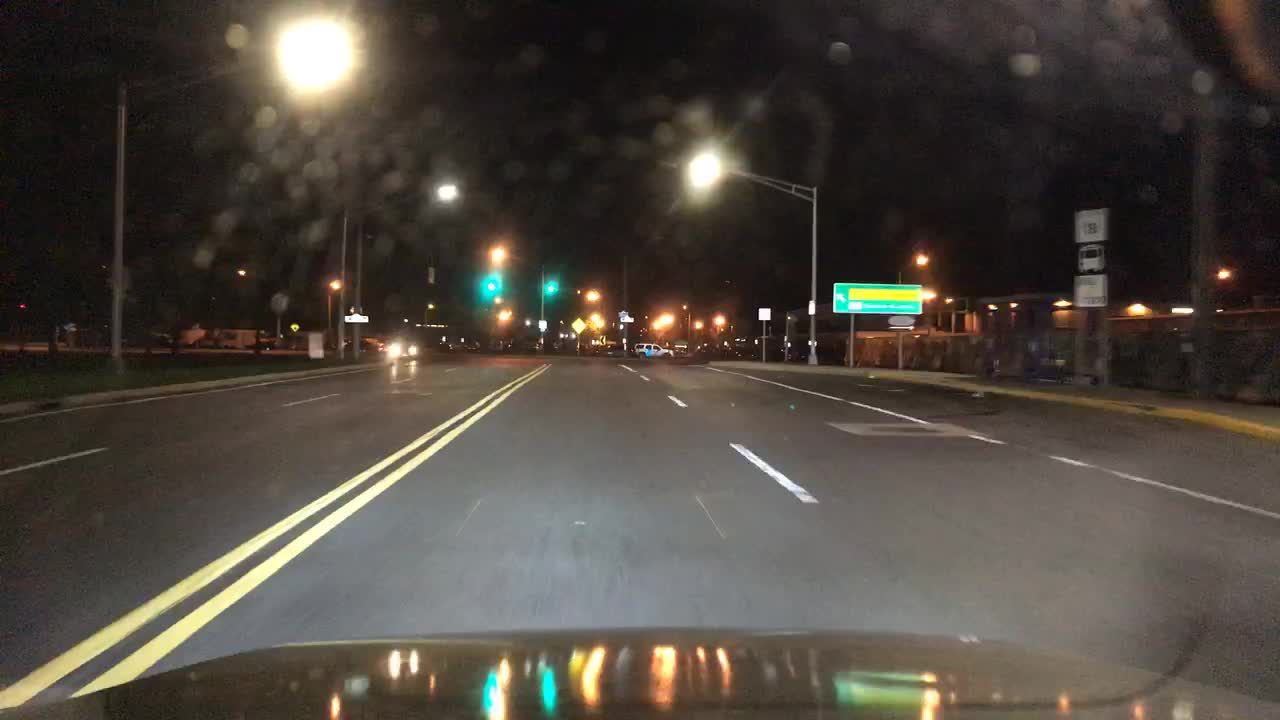car: (987, 339, 1074, 383), (63, 314, 105, 341), (212, 323, 255, 348), (627, 341, 676, 359), (340, 335, 387, 352), (751, 334, 782, 359), (387, 337, 420, 359), (148, 326, 177, 350), (179, 327, 212, 348), (714, 333, 740, 358), (692, 335, 719, 359), (243, 336, 281, 351), (730, 335, 755, 357), (783, 346, 807, 361), (433, 339, 456, 353), (671, 341, 689, 355), (549, 336, 564, 352), (564, 337, 580, 352), (487, 337, 501, 353), (320, 340, 339, 351), (528, 339, 541, 352), (465, 340, 479, 352), (501, 339, 514, 351), (283, 341, 298, 351)
traffic light: (483, 278, 495, 293), (544, 281, 556, 296)
traffic sign: (832, 278, 925, 317), (1070, 272, 1108, 307), (1070, 207, 1105, 241), (1075, 242, 1105, 271), (343, 311, 369, 324), (887, 322, 915, 333), (569, 316, 586, 333), (755, 306, 773, 321), (616, 310, 636, 323), (805, 298, 817, 315), (289, 319, 301, 332), (537, 318, 548, 329), (597, 334, 607, 346)
